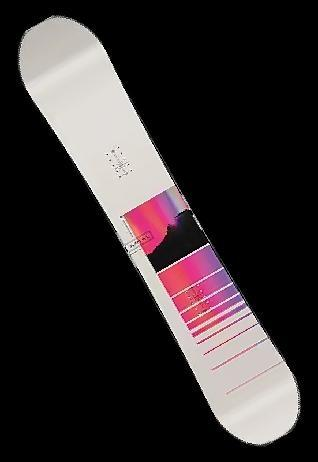Snowboard: (17, 14, 301, 446)
